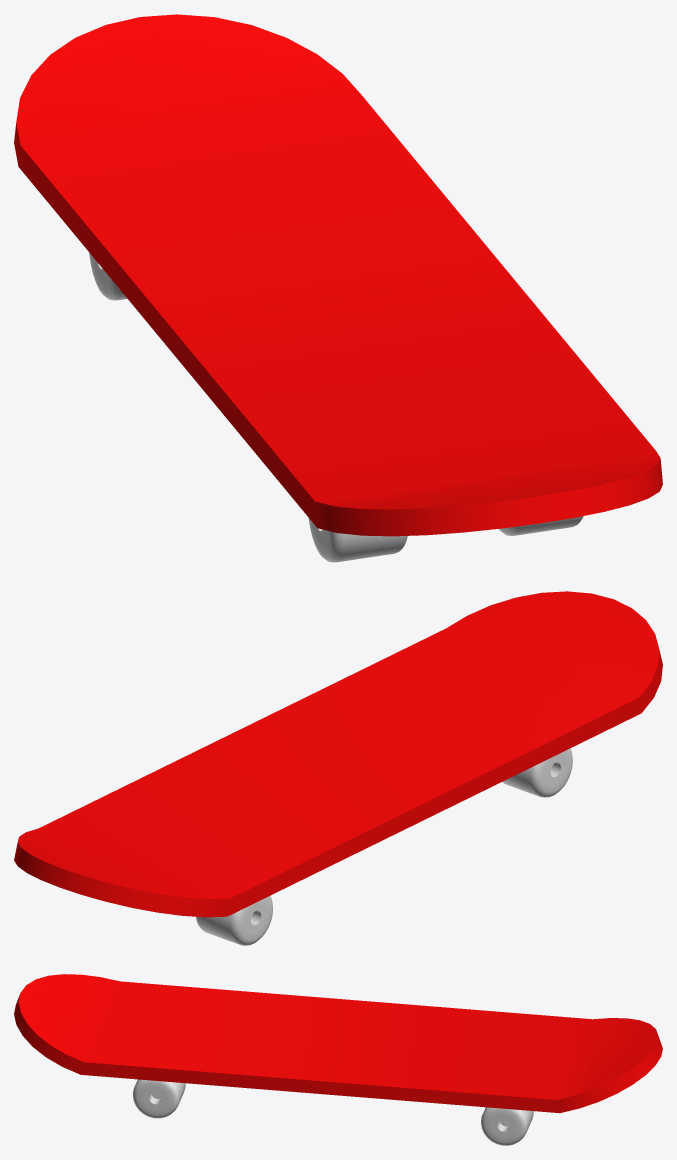
The model's file is Skate.fbx.
The picture shows the model from 3 angles, top to bottom: view 1: azimuth 30°, elevation 25°; view 2: azimuth 150°, elevation 25°; view 3: azimuth 270°, elevation 25°; orthographic projection. The views are drawn at different scales.
Parts seen in each view (by area): view 1: patineta_tabla01, Patineta_Rueda06; view 2: patineta_tabla01, Patineta_Rueda08, Patineta_Rueda06; view 3: patineta_tabla01, Patineta_Rueda05, Patineta_Rueda07.
Part boxes in pixels (left/top/right/bottom): patineta_tabla01: left=14, top=14, right=662, bottom=536; Patineta_Rueda06: left=308, top=518, right=407, bottom=562; patineta_tabla01: left=14, top=591, right=662, bottom=917; Patineta_Rueda08: left=196, top=895, right=272, bottom=945; Patineta_Rueda06: left=502, top=748, right=572, bottom=797; patineta_tabla01: left=14, top=974, right=662, bottom=1113; Patineta_Rueda05: left=133, top=1079, right=185, bottom=1118; Patineta_Rueda07: left=481, top=1107, right=533, bottom=1145.
Size of the model in its own units: 45.39 by 15.02 by 104.
